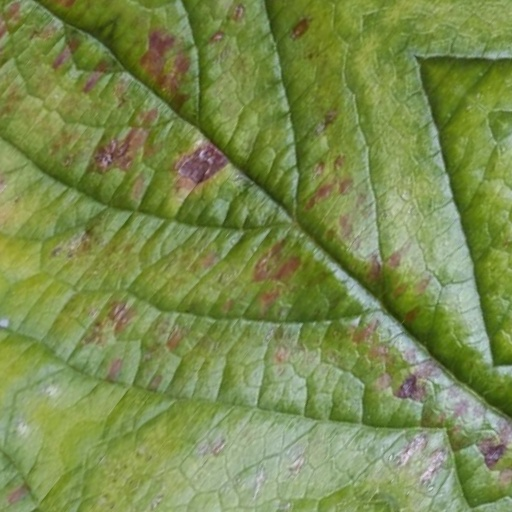Angular Leafspot: (0, 0, 511, 511)
